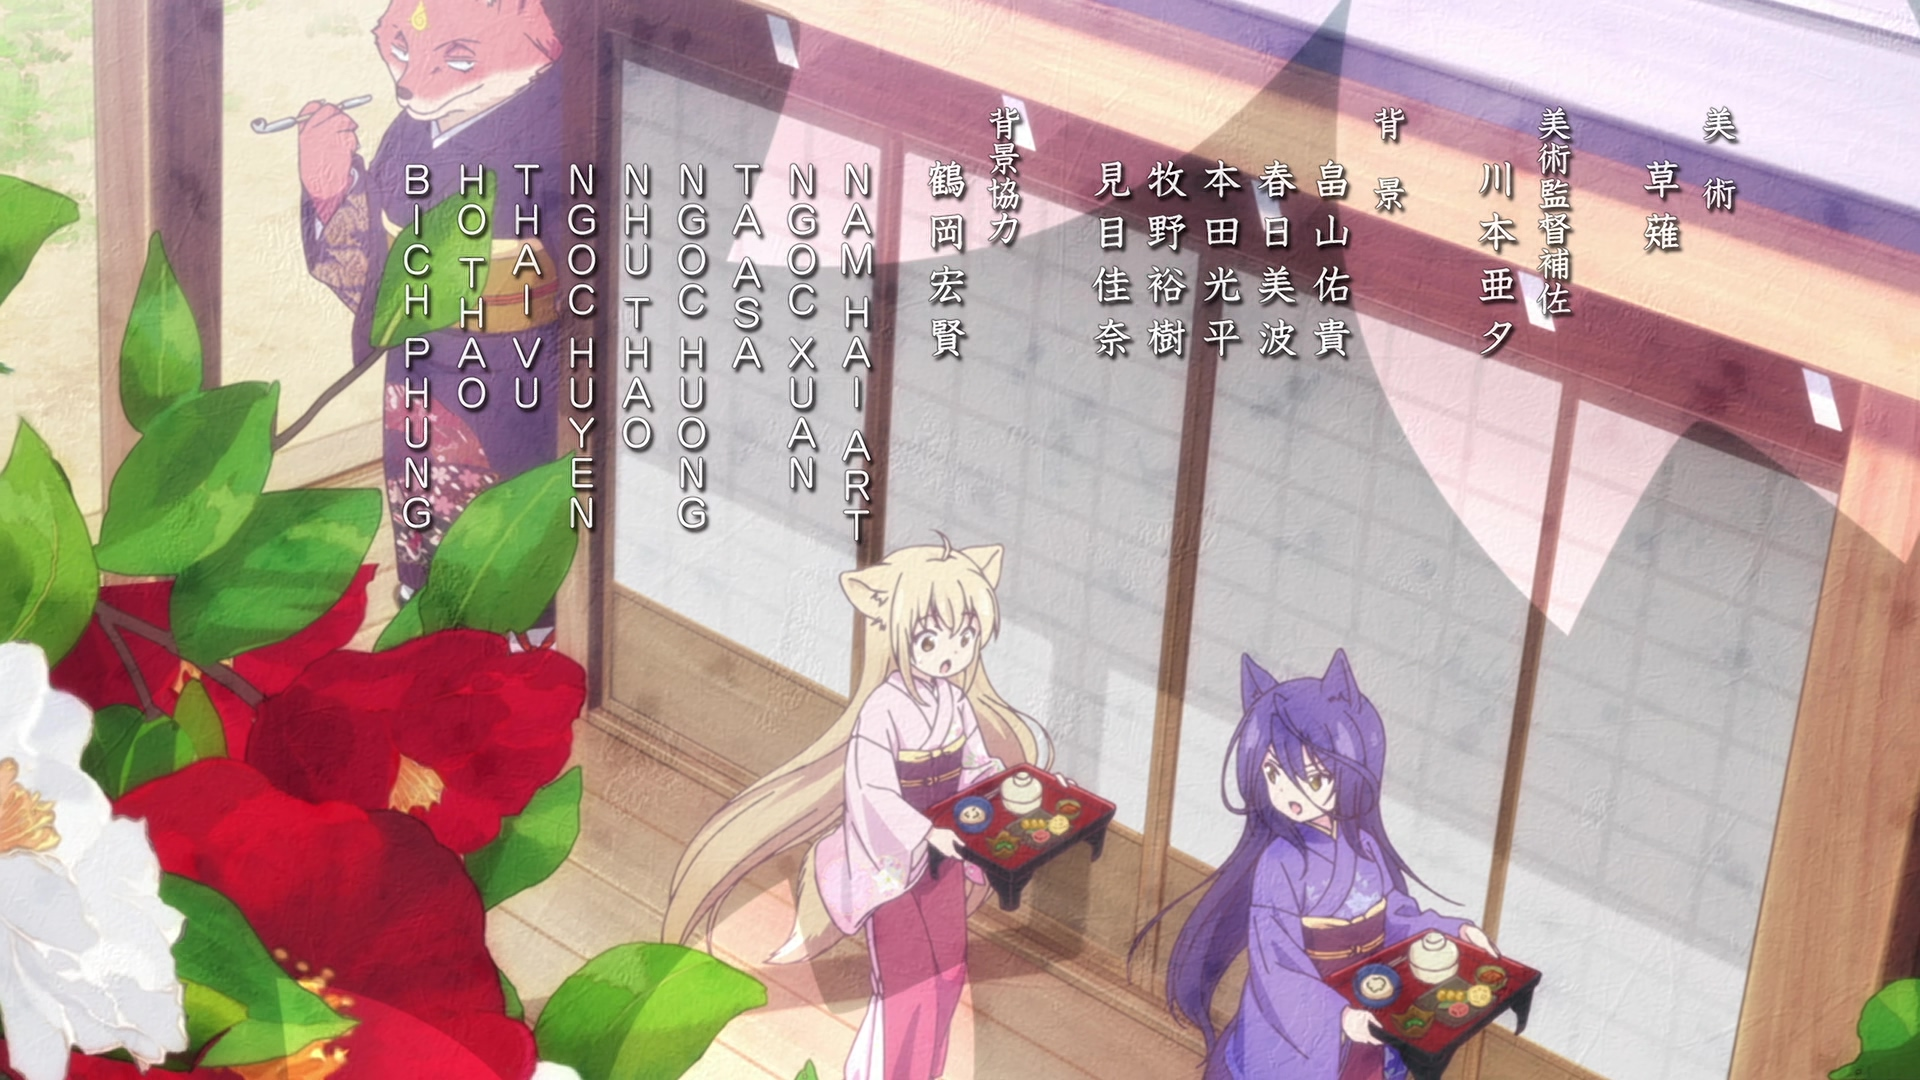柚: (665, 531, 1116, 1080)
椿: (251, 1, 566, 651)
皋: (1126, 650, 1543, 1080)
